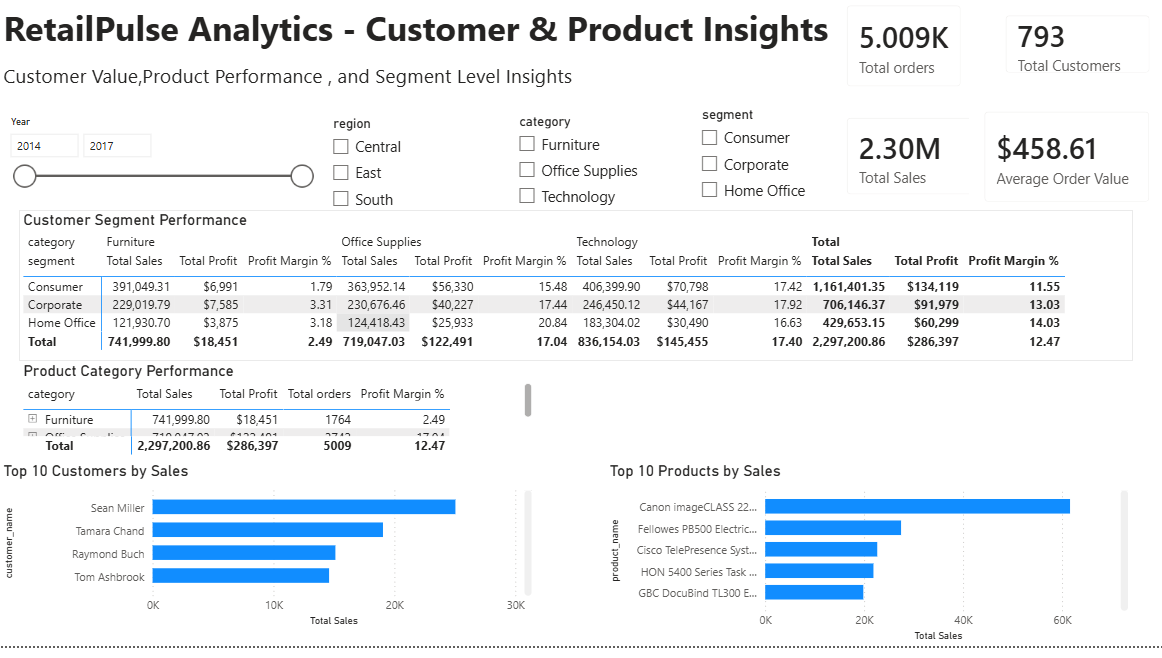

What the dashboard file says about the page in this screenshot:
{"tool":"powerbi","page":{"name":"Customer and Product insights","canvas":[1280,720],"ordinal":3},"visuals":[{"type":"slicer","fields":{"Values":["DataTable.Year"]},"box":[0,133.1,354,116.6],"z":0},{"type":"slicer","fields":{"Values":["orders.region"]},"box":[354,133.1,199,149.6],"z":1},{"type":"slicer","fields":{"Values":["orders.category"]},"box":[558.5,130.4,218.2,149.6],"z":2},{"type":"slicer","fields":{"Values":["orders.segment"]},"box":[758.8,123.5,177,149.6],"z":3},{"type":"textbox","box":[0,11,935.9,76.8],"z":4},{"type":"textbox","box":[0,74.1,955.1,49.4],"z":5},{"type":"cardVisual","fields":{"Data":["orders.Total Customers"]},"box":[1088.2,11,192.1,97.4],"z":6},{"type":"cardVisual","fields":{"Data":["orders.Total orders"]},"box":[913.9,0,159.2,123.5],"z":7},{"type":"cardVisual","fields":{"Data":["orders.Total Sales"]},"box":[913.9,123.5,174.3,118],"z":8},{"type":"cardVisual","fields":{"Data":["orders.Average Order Value"]},"box":[1064.8,116.6,215.4,133.1],"z":9},{"type":"barChart","title":"Top 10 Customers by Sales","fields":{"Category":["orders.customer_name"],"Y":["orders.Total Sales"]},"box":[0,517.3,590.1,186.6],"z":10},{"type":"barChart","title":"Top 10 Products by Sales","fields":{"Category":["orders.product_name"],"Y":["orders.Total Sales"]},"box":[665.5,517.3,579.1,203.1],"z":11},{"type":"pivotTable","title":"Customer Segment Performance","fields":{"Rows":["orders.segment"],"Columns":["orders.category"],"Values":["orders.Total Sales","orders.Total Profit","orders.Profit Margin %"]},"box":[22,241.5,1222.6,166],"z":12},{"type":"pivotTable","title":"Product Category Performance","fields":{"Rows":["orders.category","orders.sub_category"],"Values":["orders.Total Sales","orders.Total Profit","orders.Total orders","orders.Profit Margin %"]},"box":[22,407.5,568.1,107],"z":13}]}

Visuals, with their boxes in screenshot pixels (x1, y1, x2, y2), scaled from the page's 1280x720 canvas onto the 1162x658 screenshot:
slicer - DataTable.Year: select_region(0, 122, 321, 228)
slicer - orders.region: select_region(321, 122, 502, 258)
slicer - orders.category: select_region(507, 119, 705, 256)
slicer - orders.segment: select_region(689, 113, 850, 250)
textbox: select_region(0, 10, 850, 80)
textbox: select_region(0, 68, 867, 113)
cardVisual - orders.Total Customers: select_region(988, 10, 1161, 99)
cardVisual - orders.Total orders: select_region(830, 0, 974, 113)
cardVisual - orders.Total Sales: select_region(830, 113, 988, 221)
cardVisual - orders.Average Order Value: select_region(967, 107, 1161, 228)
"Top 10 Customers by Sales" barChart: select_region(0, 473, 536, 643)
"Top 10 Products by Sales" barChart: select_region(604, 473, 1130, 657)
"Customer Segment Performance" pivotTable: select_region(20, 221, 1130, 372)
"Product Category Performance" pivotTable: select_region(20, 372, 536, 470)
